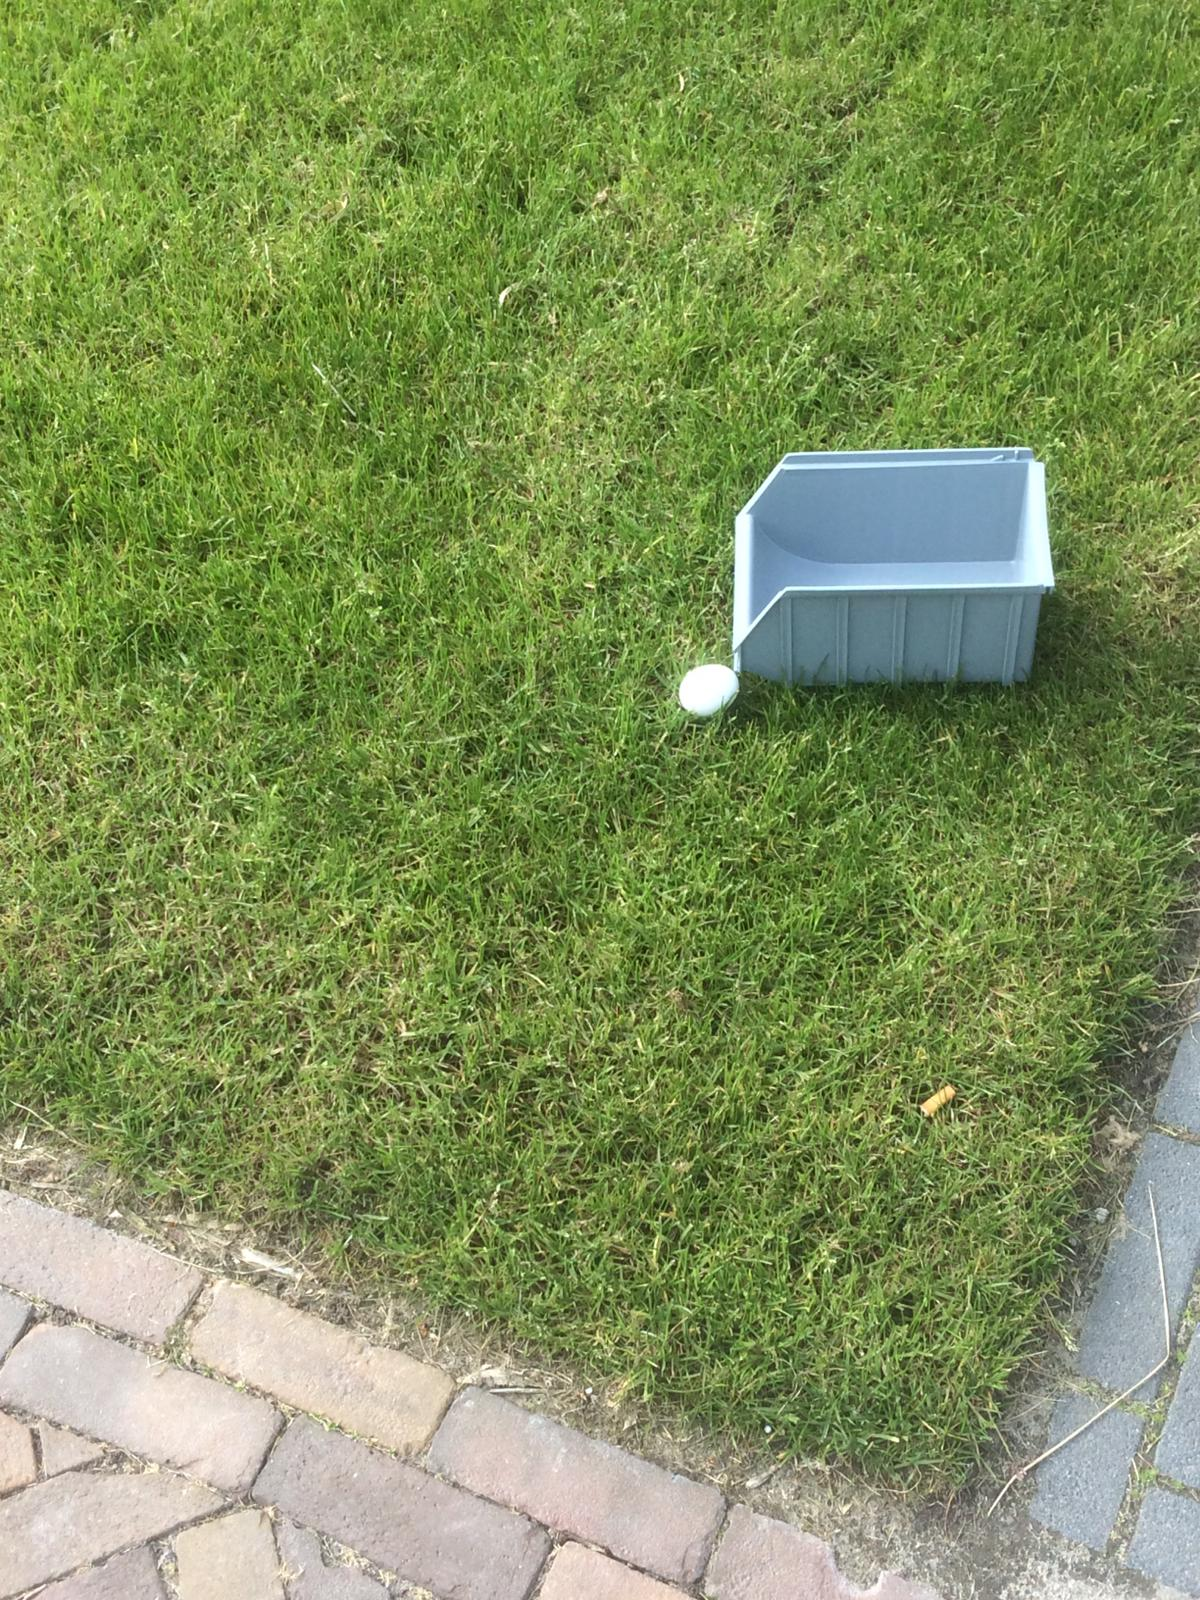egg: (672, 660, 747, 718)
tray: (732, 443, 1054, 685)
